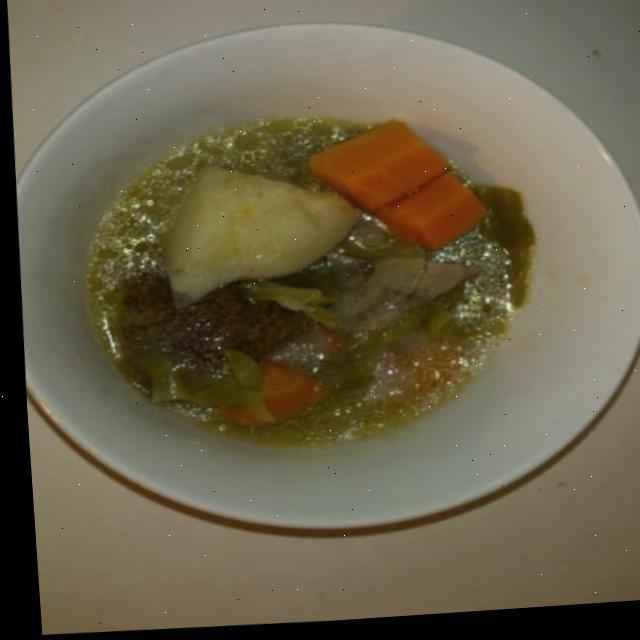汤锅炖物: (2, 4, 640, 560)
